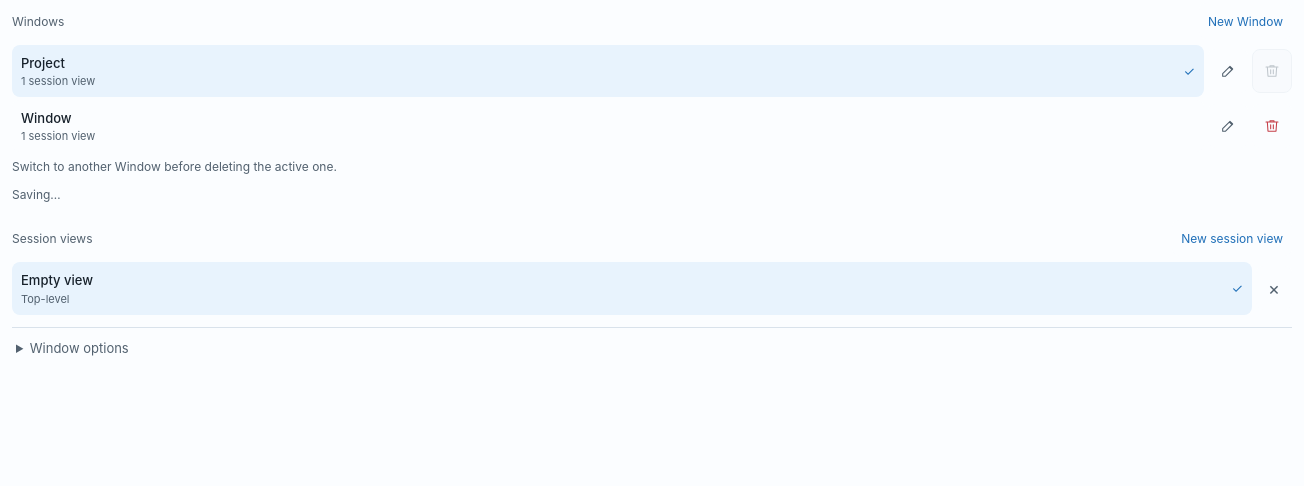
Test: preserves local pane edits and exposes a save retry while offline
Click the button "New session view" at (1232, 238), box [1172,220,1292,256]
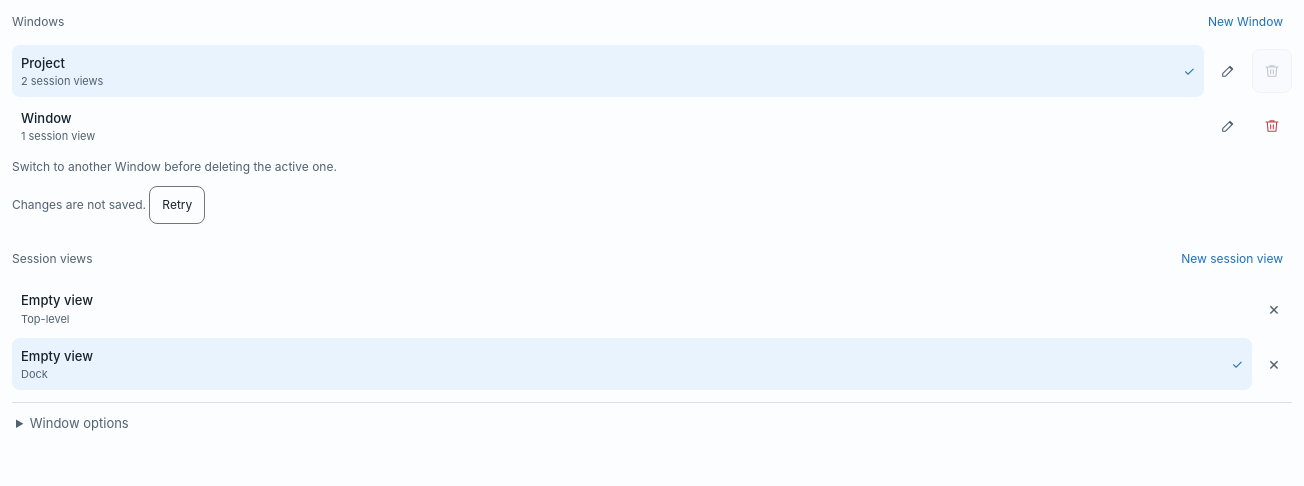
Check: the button "New session view" is enabled, box [1172,240,1292,276]
Check: the text "not saved" is shown, box [12,197,149,212]
Click the button "Retry" at (177, 205), box [149,186,205,224]
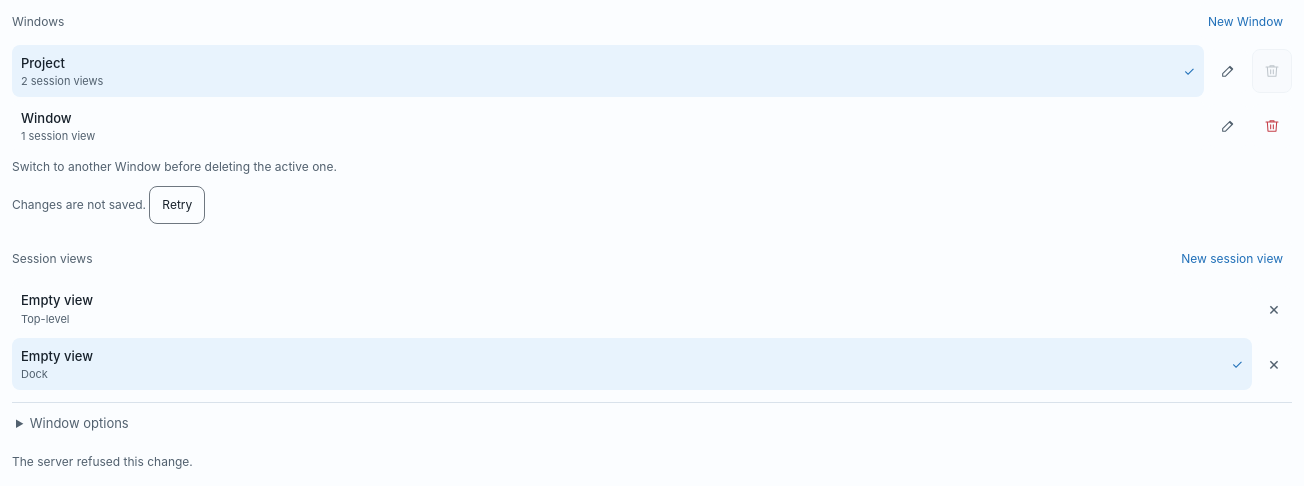
Check: the text "The server refused this change." is shown, box [12,454,193,469]
